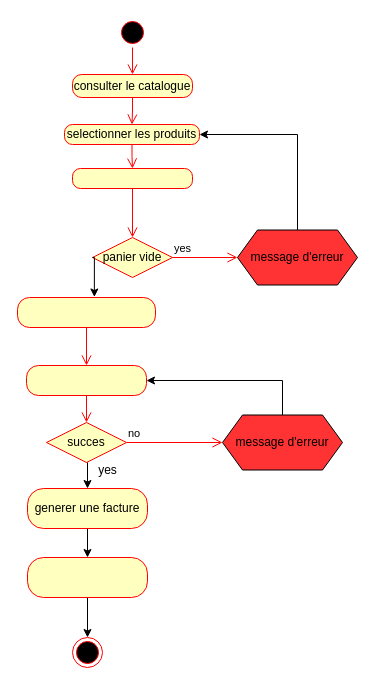
Some shapes in this 375 by 685 pixel diagram are drawn without their labels. Each missing label, with the centre of its shape:
ajouter au panier: the point at 132,178
effectuer paiement: the point at 86,380
entrer les informations de paiement: the point at 86,312
envoi de la commande a l'administrateur: the point at 87,577
